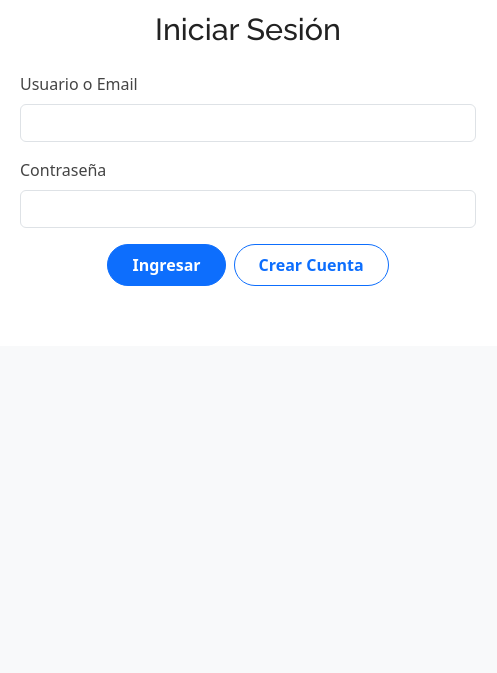
it: Auth - Registro › muestra error si las contraseñas no coinciden
Click the button "Crear Cuenta": (311, 264) [234,244,389,286]
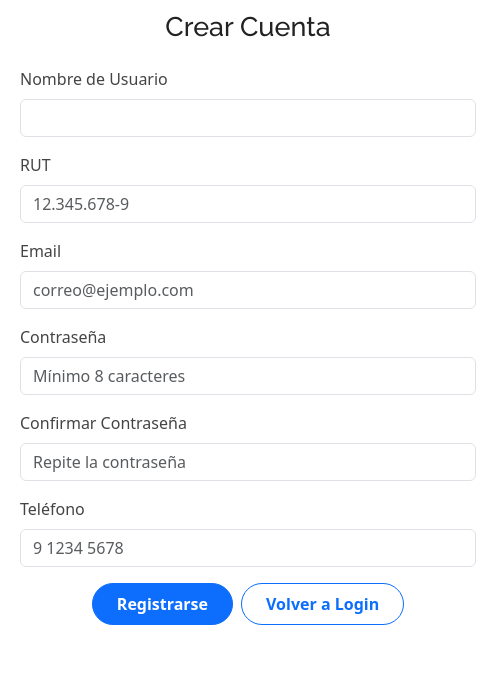
In the field labelled "RUT": (248, 204) [20,185,476,223], type "12.345.678-5"
In the field labelled "Email": (248, 290) [20,271,476,309], type "test@example.com"
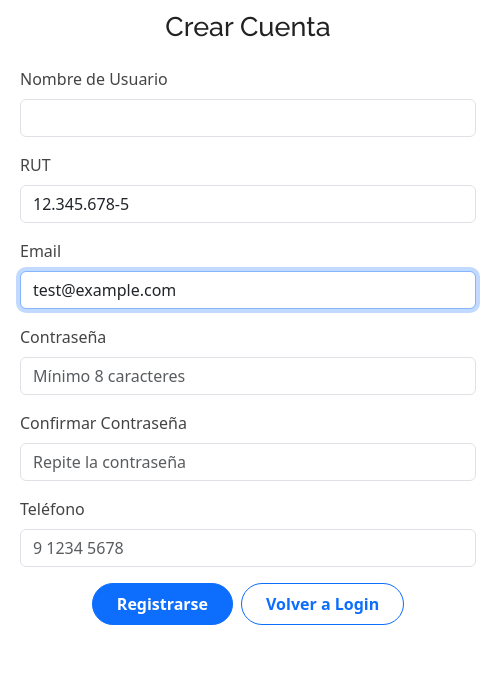
In the field labelled "Teléfono": (248, 548) [20,529,476,567], type "912345678"
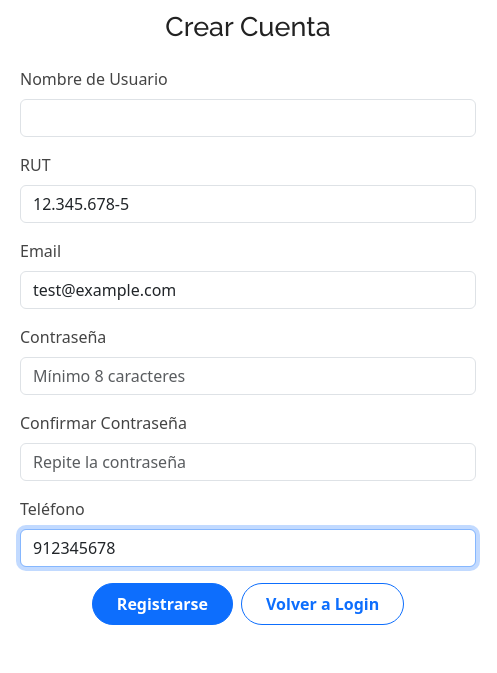
In the password field with placeholder "Mínimo 8 caracteres": (248, 376) [20,357,476,395], type "12345678"
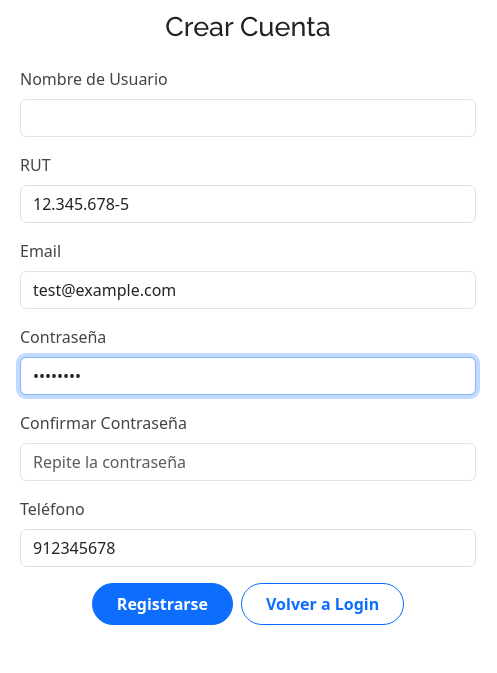
In the password field with placeholder "Repite la contraseña": (248, 462) [20,443,476,481], type "1234567"
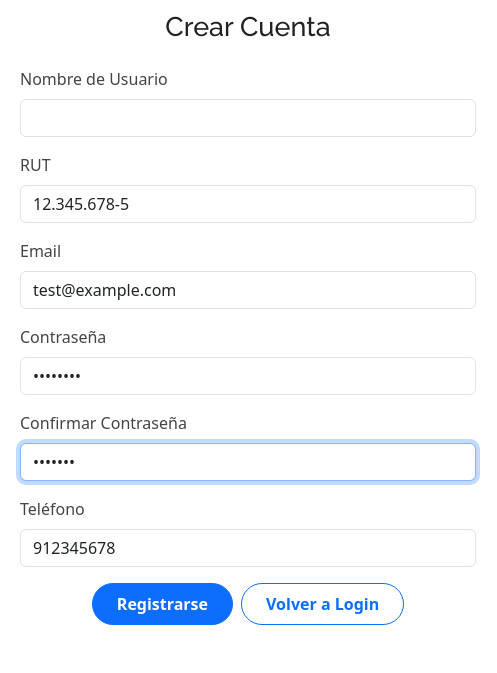
Click the button "Registrarse": (162, 604) [92,583,233,625]
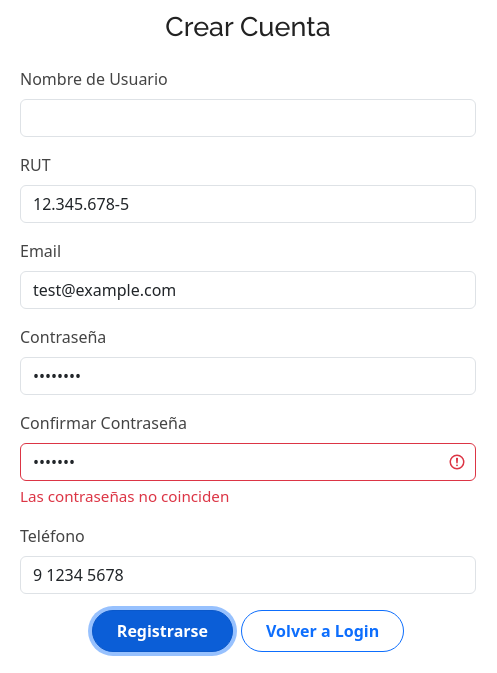
Now the text "Las contraseñas no coinciden" is shown, box [20,486,229,506]
